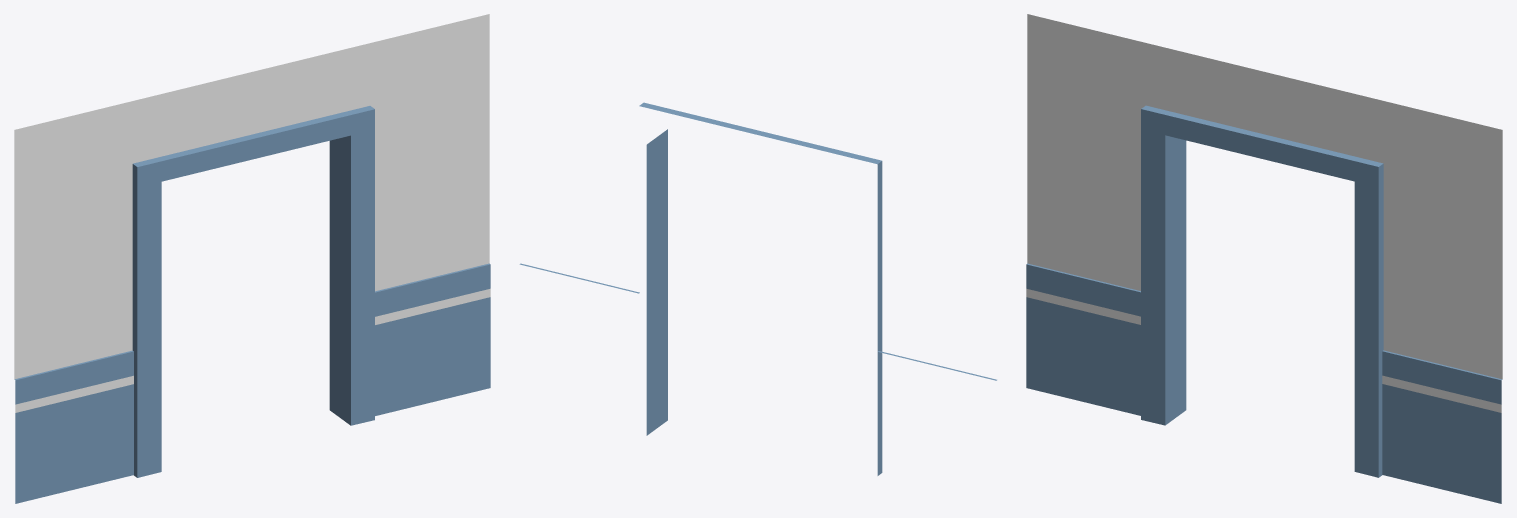
Rendered from RoomOneSideDoorway.glb.
3 renders of one model, left to right at view 1: azimuth 30°, elevation 25°; view 2: azimuth 150°, elevation 25°; view 3: azimuth 330°, elevation 25°, orthographic.
Parts seen in each view (by area): view 1: RoomOneSideDoorway; view 2: RoomOneSideDoorway; view 3: RoomOneSideDoorway.
Part boxes in pixels (x1,y1,x2,y2): RoomOneSideDoorway: (14,14,490,503); RoomOneSideDoorway: (519,102,996,475); RoomOneSideDoorway: (1026,14,1502,503).
Size of the model in its own units: 4 by 3 by 0.3086.
